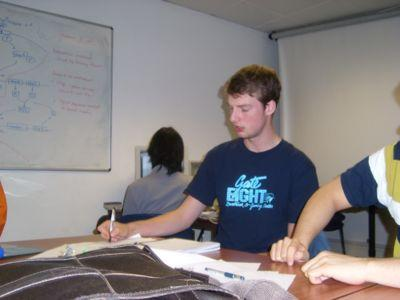person: (96, 64, 321, 253)
